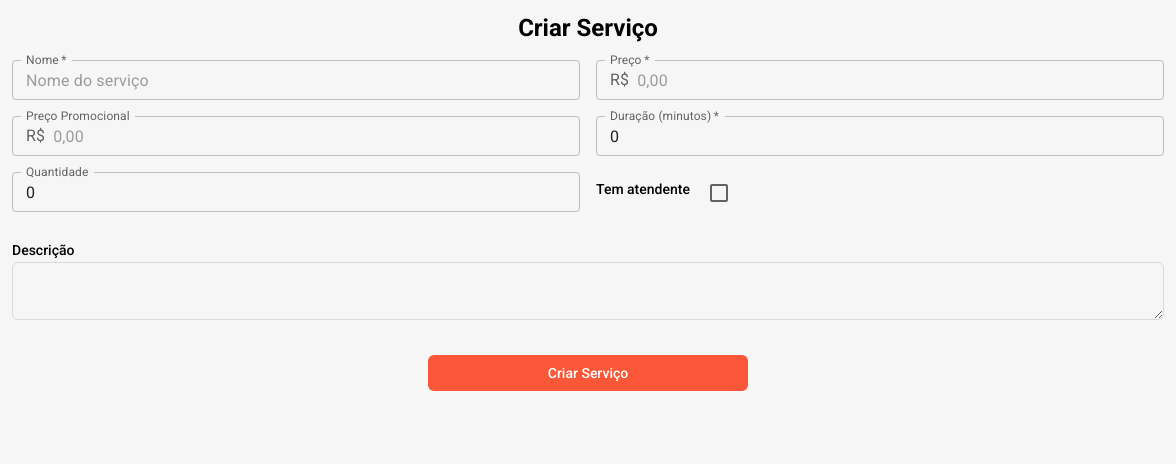
Test: CreateService › exibe campos de período promocional quando há preço promocional
Type "25,00" into the field labelled "Preço Promocional".
click(317, 136); type("25,00")  # box [53, 116, 580, 156]
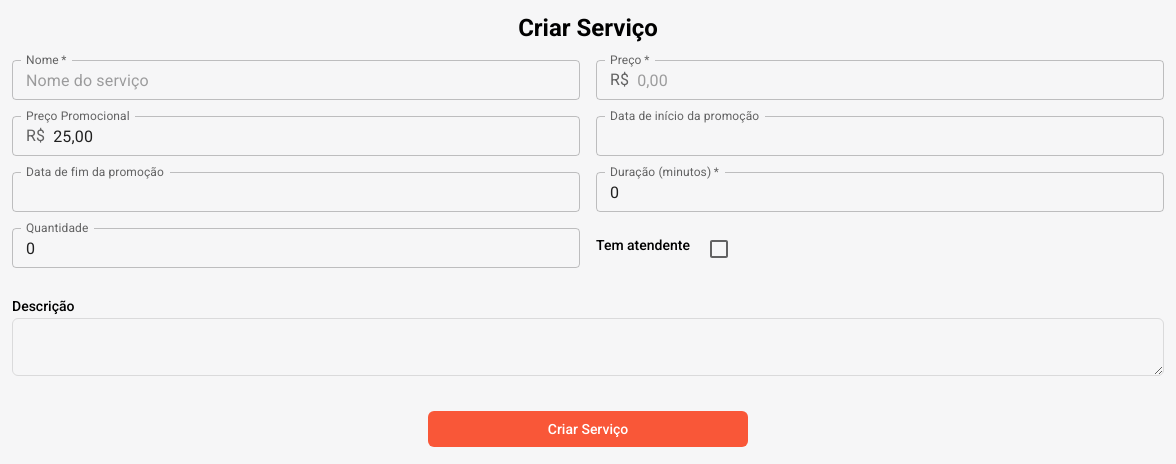
Check: the field labelled "Data de início da promoção" is shown, box [596, 116, 1164, 156]
Check: the field labelled "Data de fim da promoção" is shown, box [12, 172, 580, 212]
